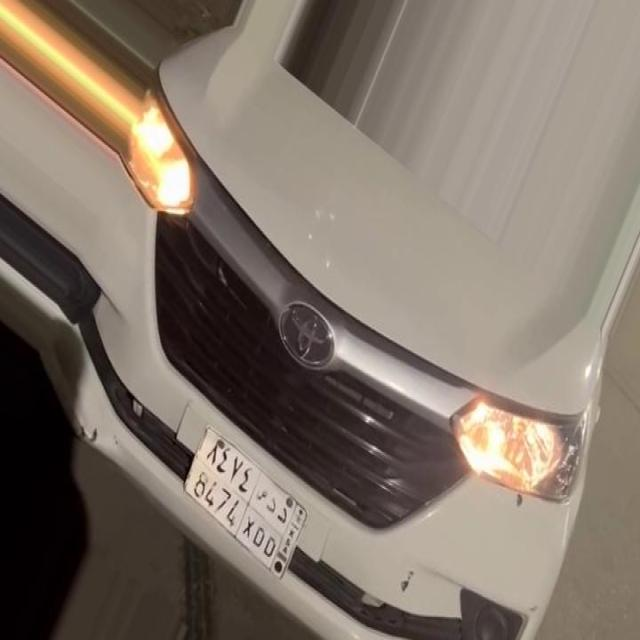Car-plate: (165, 402, 317, 598)
